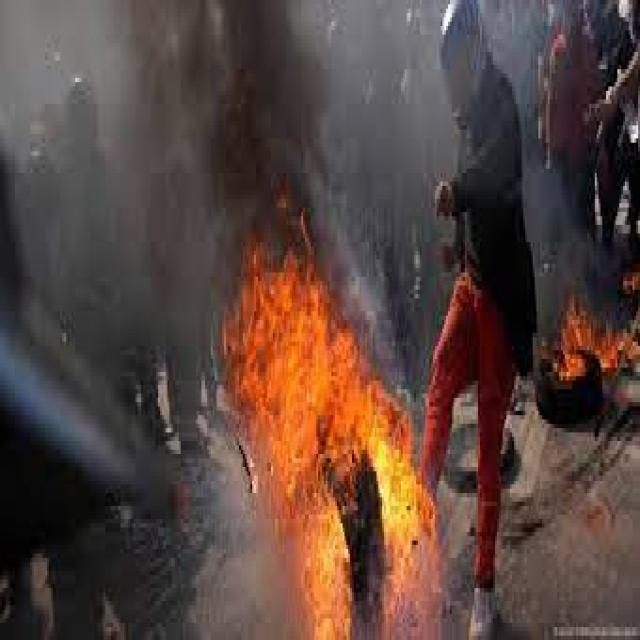fire: (222, 225, 439, 640)
